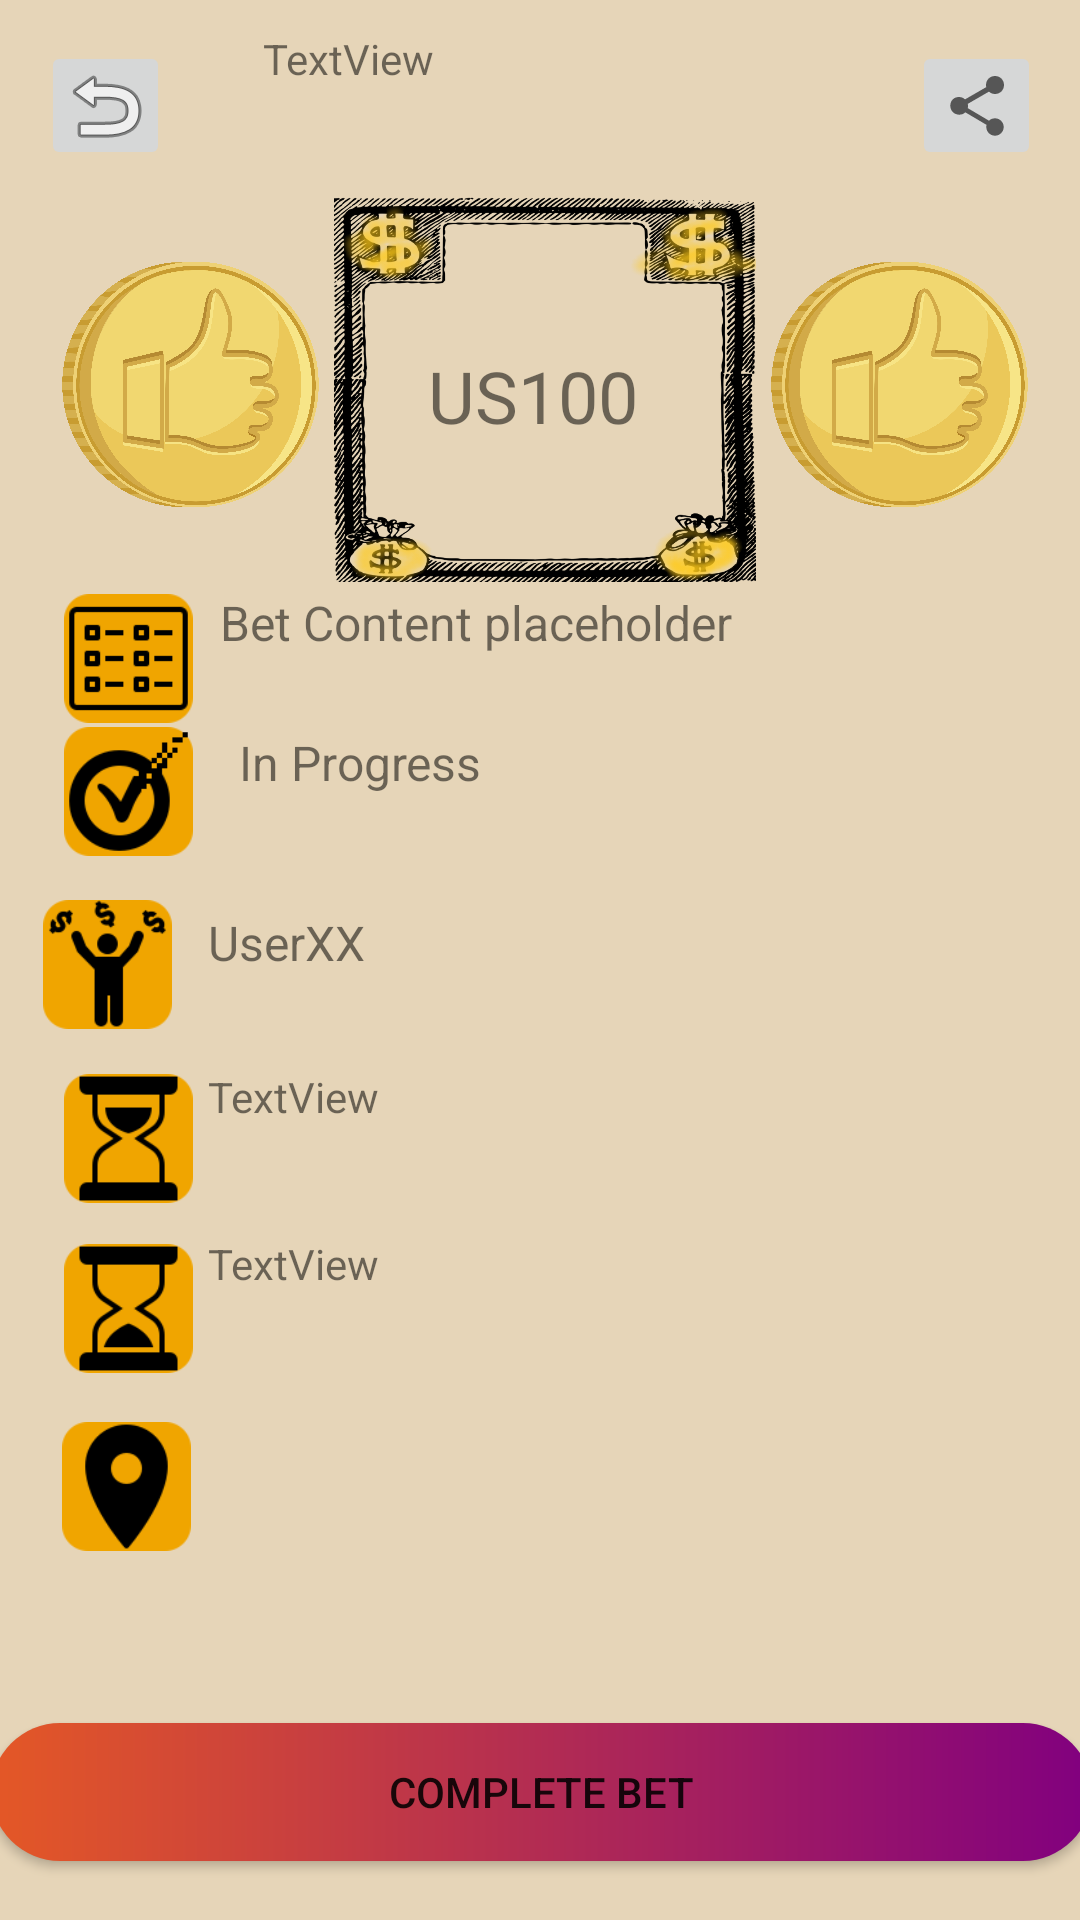

Icon bounding boxes for this 1080*1920 phone screenshot, format (x1, y1, x2, y2):
detail: (64, 594, 193, 723)
endtime: (64, 1244, 193, 1373)
gold thumbup: (62, 262, 319, 507), (771, 262, 1028, 507)
location: (62, 1422, 191, 1551)
money man: (43, 900, 172, 1029)
revert: (53, 59, 158, 152)
starttime: (64, 1074, 193, 1203)
